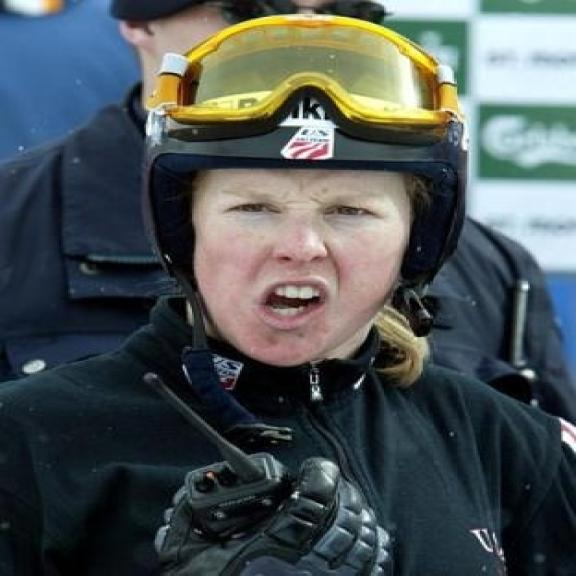face: (193, 164, 415, 370)
